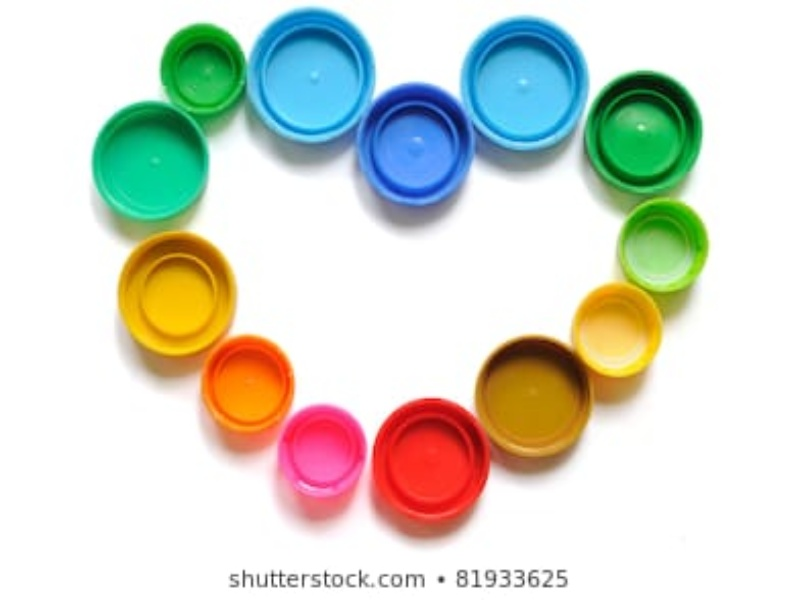bottle-cap: (458, 11, 590, 155), (246, 3, 378, 147), (371, 395, 491, 525), (474, 334, 594, 464), (583, 68, 703, 198), (118, 231, 237, 357), (91, 100, 210, 224), (357, 81, 475, 204), (615, 199, 715, 293), (572, 282, 665, 380), (202, 336, 294, 432), (279, 406, 367, 498), (160, 22, 244, 113)
